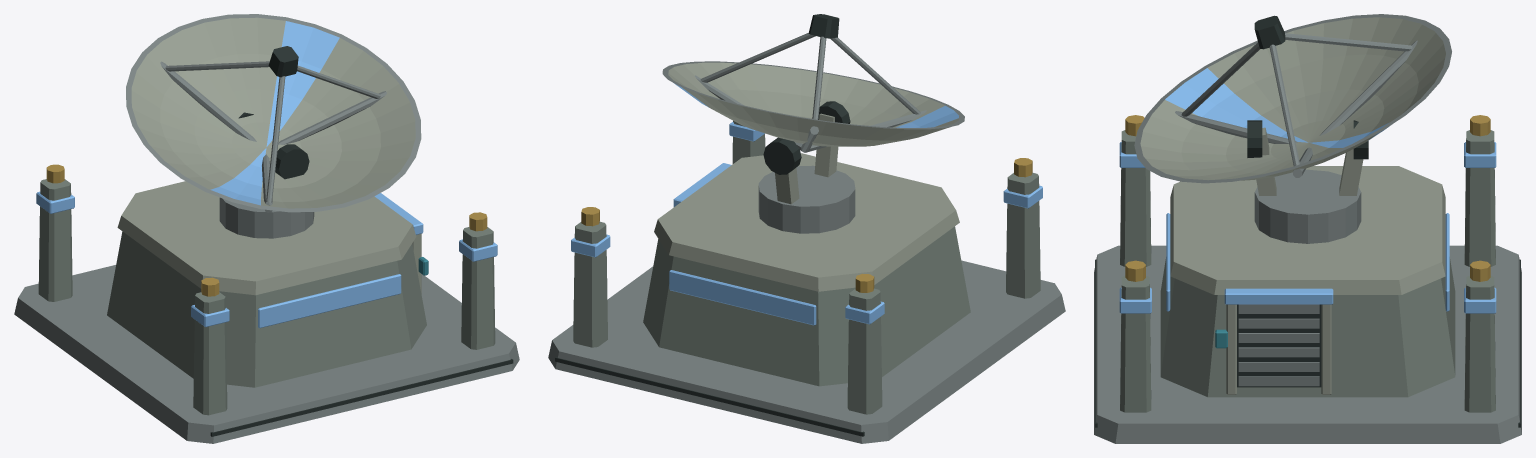
The model's file is orbital_uplink.glb.
3 views of the same model, side by side, from view 1: azimuth 30°, elevation 25°; view 2: azimuth 150°, elevation 25°; view 3: azimuth 270°, elevation 25° (orthographic). The views are drawn at different scales.
Visible parts, largest first — view 1: orbital_uplink; view 2: orbital_uplink; view 3: orbital_uplink.
Boxes of the visible parts, left/top/right/bottom form: orbital_uplink: left=14, top=14, right=519, bottom=443; orbital_uplink: left=548, top=14, right=1065, bottom=443; orbital_uplink: left=1094, top=14, right=1521, bottom=443.
Size of the model in its own units: 3.7 by 3.18 by 3.7.
